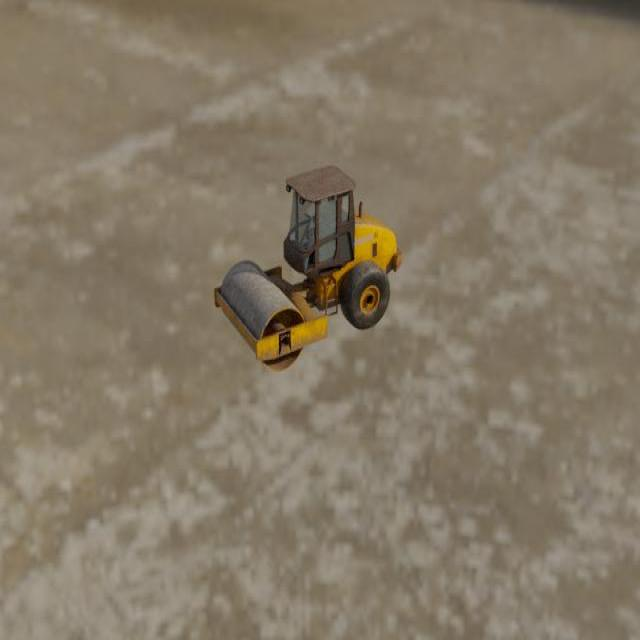Roller: (213, 164, 402, 372)
